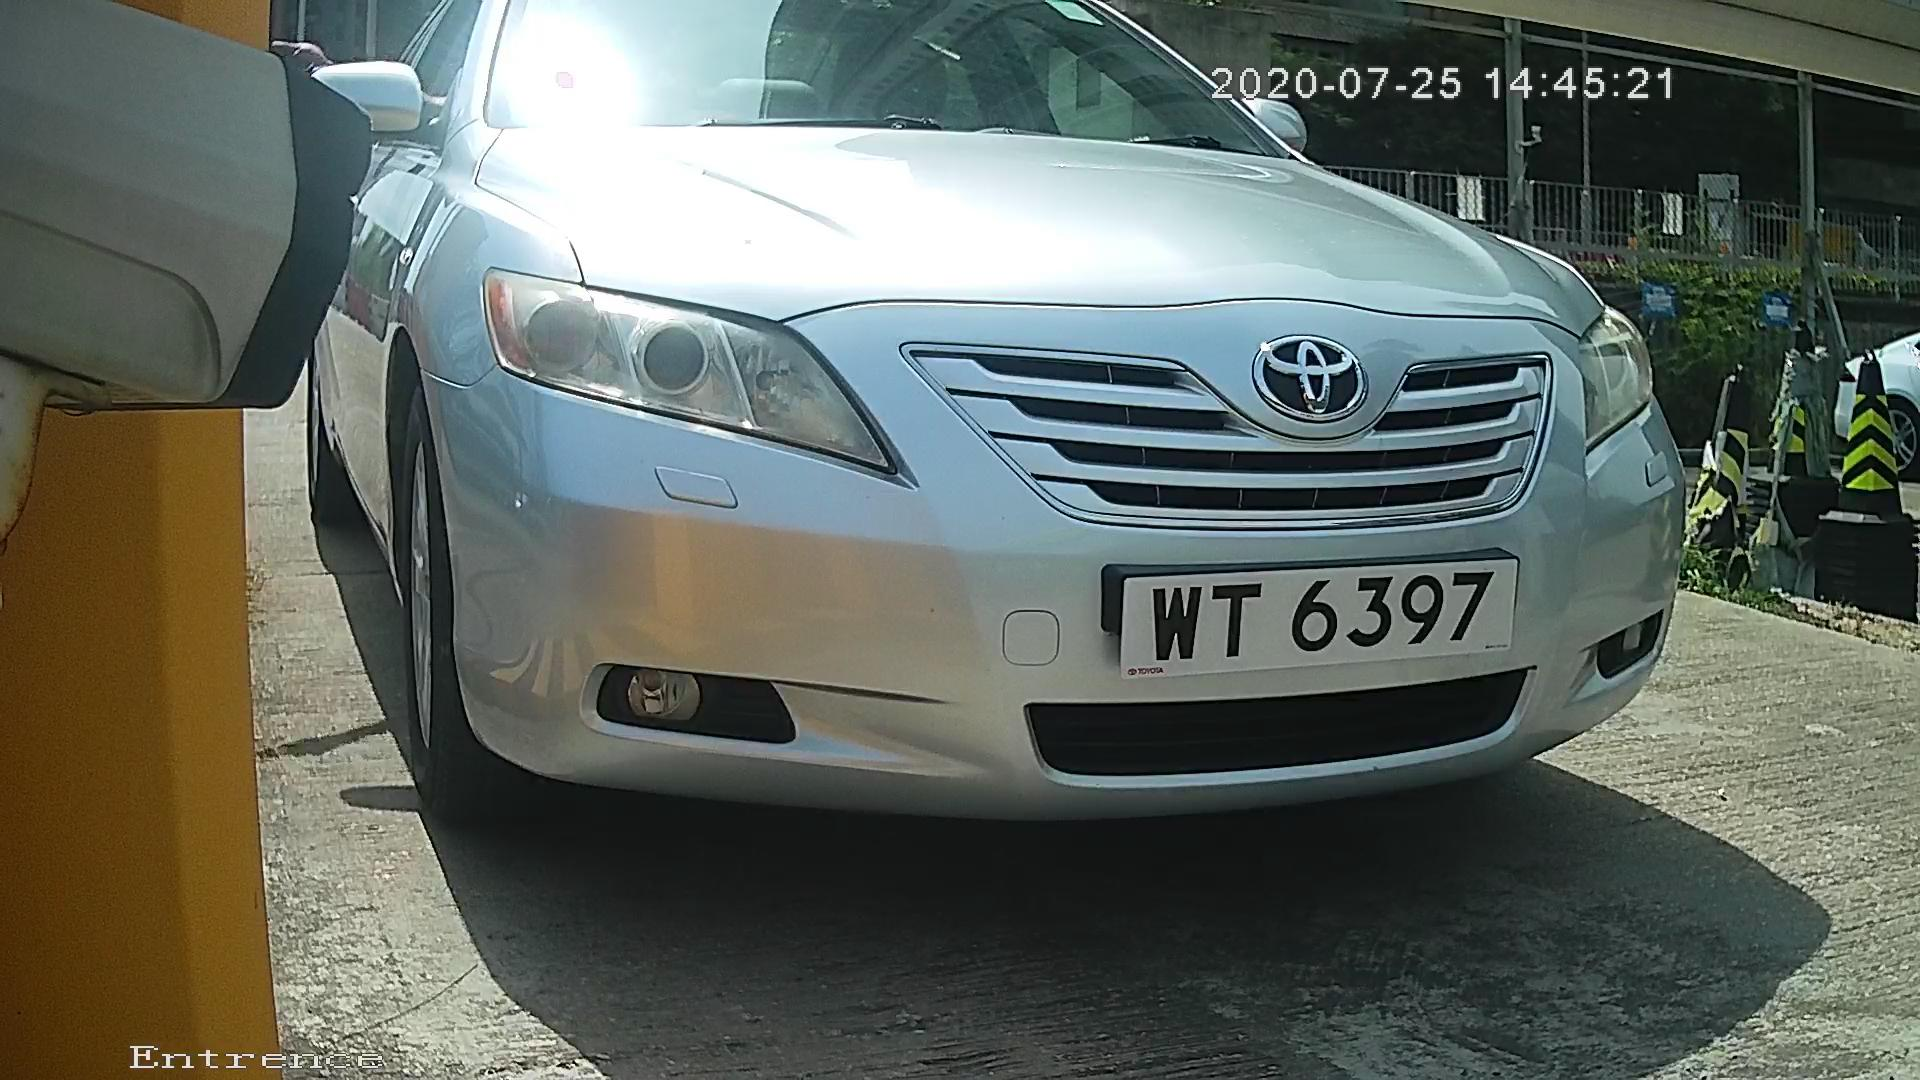Car: (181, 1, 1766, 950)
License Plate: (1089, 536, 1526, 704)
